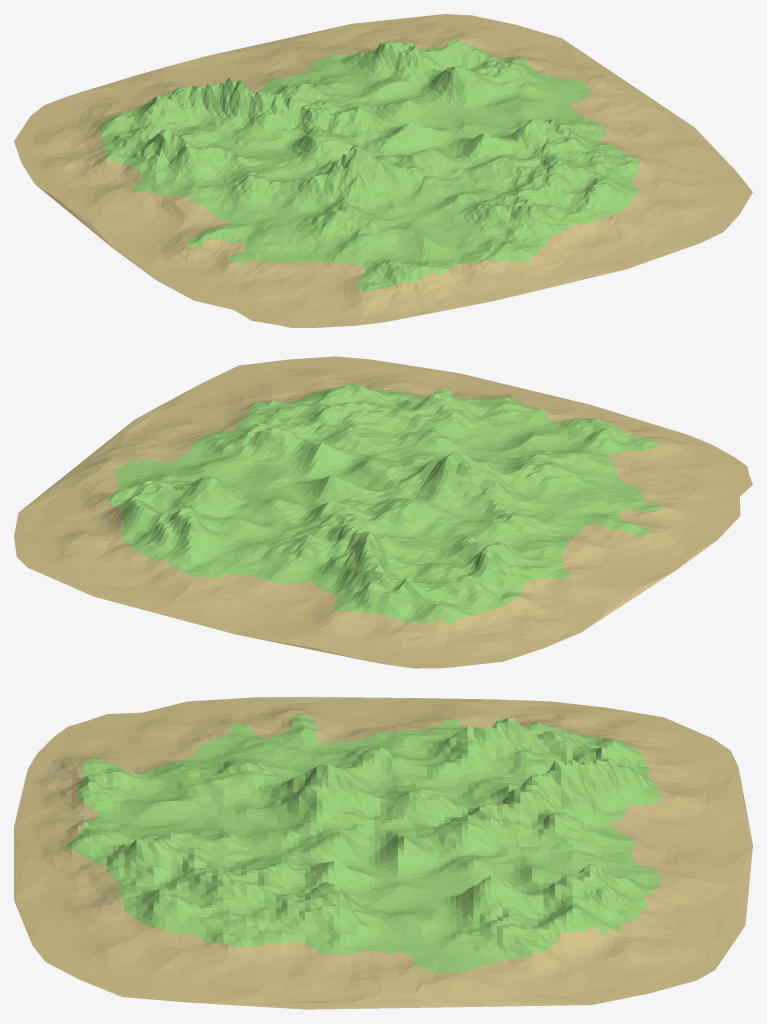
File: CPT_Island_H_c_02_LOD.fbx
3 views of the same model, one above another, from view 1: azimuth 30°, elevation 25°; view 2: azimuth 150°, elevation 25°; view 3: azimuth 270°, elevation 25° (orthographic). The views are drawn at different scales.
Parts seen in each view (by area): view 1: CPT_Island_H_c_02_LOD0; view 2: CPT_Island_H_c_02_LOD0; view 3: CPT_Island_H_c_02_LOD0.
Boxes of the visible parts, x1,y1,x2,y2 form: CPT_Island_H_c_02_LOD0: [14, 14, 752, 327]; CPT_Island_H_c_02_LOD0: [14, 356, 752, 668]; CPT_Island_H_c_02_LOD0: [14, 697, 752, 1009].
Size of what is drawn, in the model's own units: 50000 by 4596 by 50000.
